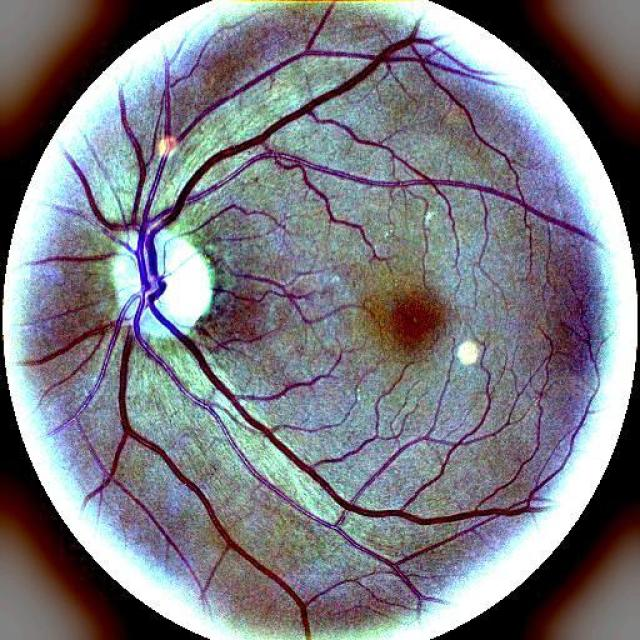Macula: (389, 289, 448, 349)
Nerves: (16, 52, 346, 636), (290, 41, 400, 115), (28, 251, 118, 264)
Optic Disk: (112, 231, 210, 341)
